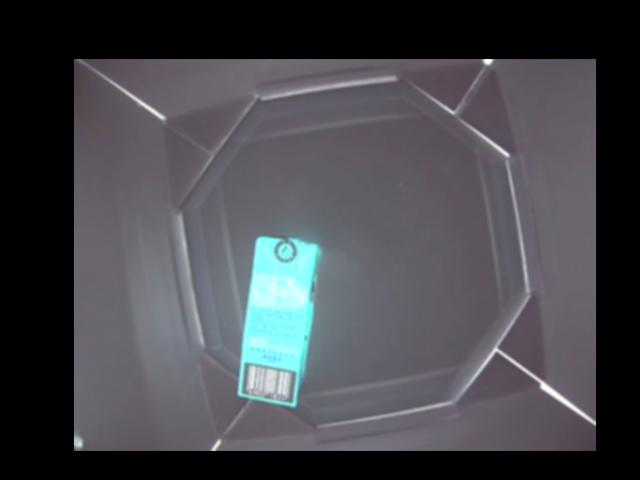Bottle: (241, 236, 319, 407)
